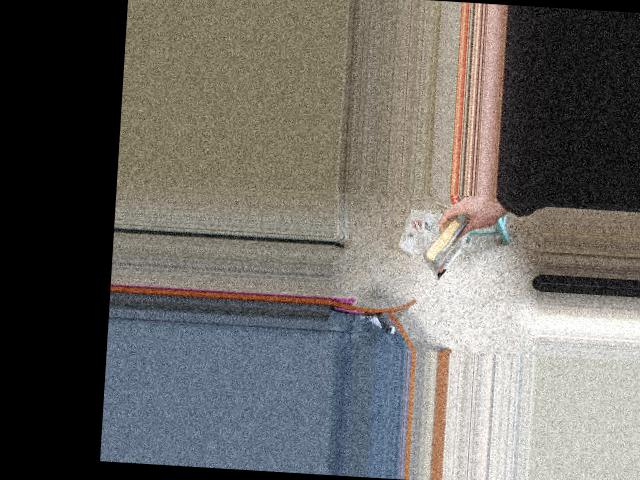cheese: (419, 196, 476, 282)
